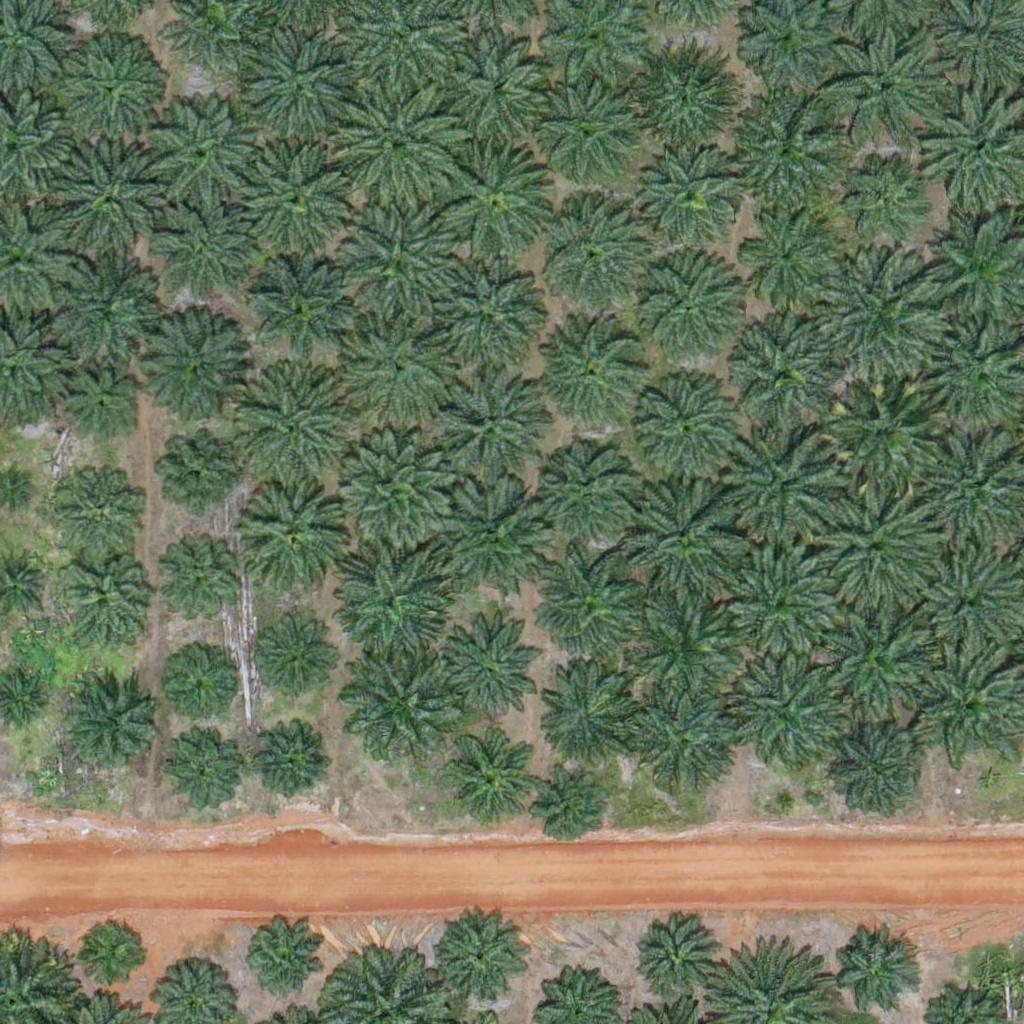Kelapa_Sawit: (819, 488, 944, 614), (818, 364, 943, 490), (818, 250, 943, 376), (721, 323, 846, 449), (822, 16, 947, 142), (334, 77, 459, 202), (904, 541, 1017, 654), (628, 690, 741, 803), (630, 587, 743, 700), (634, 475, 747, 588), (533, 196, 646, 309), (532, 541, 645, 654), (442, 146, 555, 259), (432, 251, 545, 364), (429, 369, 542, 482), (342, 643, 455, 756), (232, 475, 345, 588), (135, 315, 248, 428), (53, 143, 166, 256), (39, 244, 152, 357), (528, 73, 641, 186), (442, 32, 555, 145), (150, 95, 263, 208), (723, 87, 835, 201), (628, 38, 740, 152), (821, 612, 933, 725), (728, 428, 840, 541), (727, 543, 839, 656), (730, 658, 842, 771), (635, 359, 747, 472), (631, 246, 743, 359), (438, 473, 550, 586), (434, 619, 546, 732), (341, 200, 453, 313), (339, 309, 451, 422), (337, 428, 449, 541), (333, 543, 445, 656), (235, 365, 347, 478), (240, 26, 352, 139), (239, 138, 351, 251), (432, 909, 532, 1010), (835, 713, 935, 814), (546, 315, 646, 416), (537, 439, 637, 540), (538, 661, 638, 762), (249, 262, 349, 363), (58, 674, 158, 775), (61, 40, 161, 141), (737, 204, 837, 304), (640, 145, 740, 245), (442, 731, 530, 819), (53, 465, 141, 553), (61, 559, 149, 647), (240, 917, 327, 1005), (247, 612, 334, 700), (158, 209, 245, 297), (161, 435, 236, 511), (832, 939, 907, 1015), (639, 926, 714, 1002), (844, 154, 919, 230), (255, 728, 330, 804), (163, 550, 238, 626), (166, 732, 241, 808), (59, 368, 134, 444), (163, 655, 226, 718), (84, 920, 147, 983), (537, 772, 600, 835)
